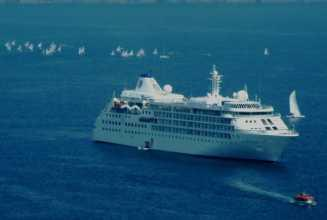otherboat: (292, 192, 316, 206)
youlun: (94, 65, 303, 162)
